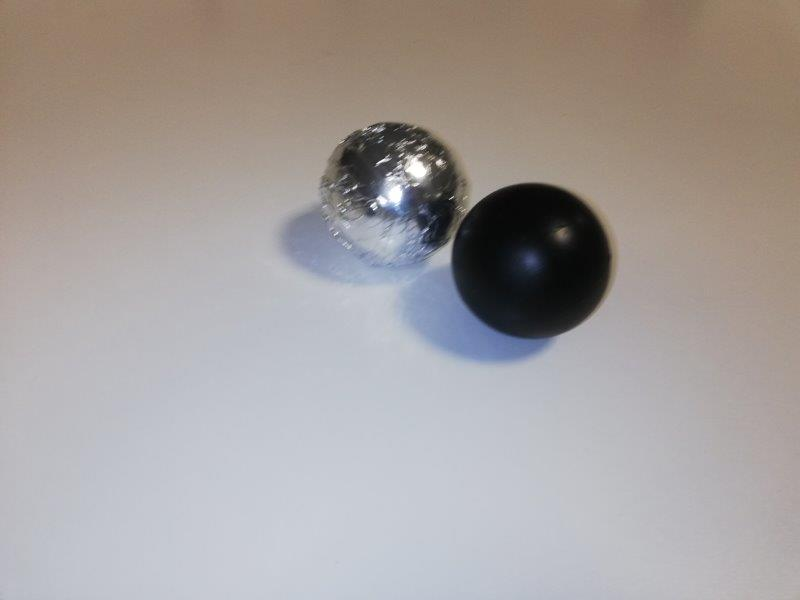bianca: (320, 123, 467, 261)
nera: (456, 181, 607, 336)
